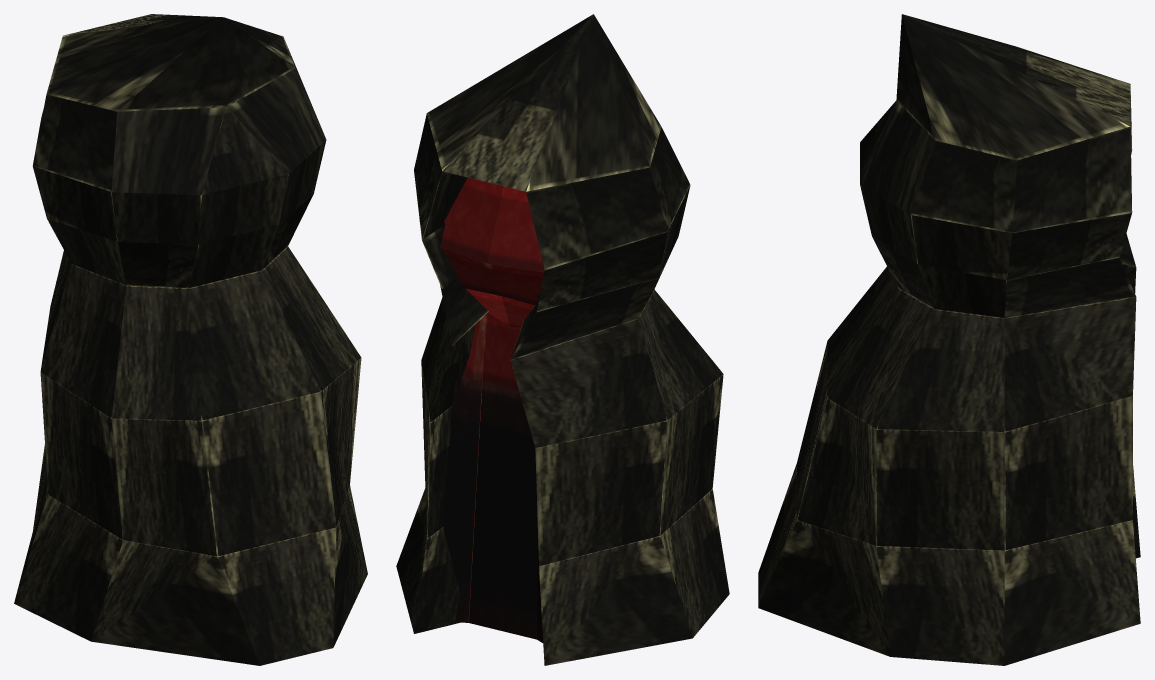
The model's file is Monster 1.obj.
The picture shows the model from 3 angles, left to right: view 1: azimuth 30°, elevation 25°; view 2: azimuth 150°, elevation 25°; view 3: azimuth 270°, elevation 25°; orthographic projection. The views are drawn at different scales.
Visible parts, largest first — view 1: sphere; view 2: sphere, cylinder; view 3: sphere.
Part boxes in pixels (x1,y1,x2,y2): sphere: (14,14,367,665); sphere: (396,14,729,665); cylinder: (443,313,543,642); sphere: (758,14,1140,665).
Size of the model in its own units: 0.5113 by 0.9102 by 0.5472.
Materials: 2 (2 with a texture image).
